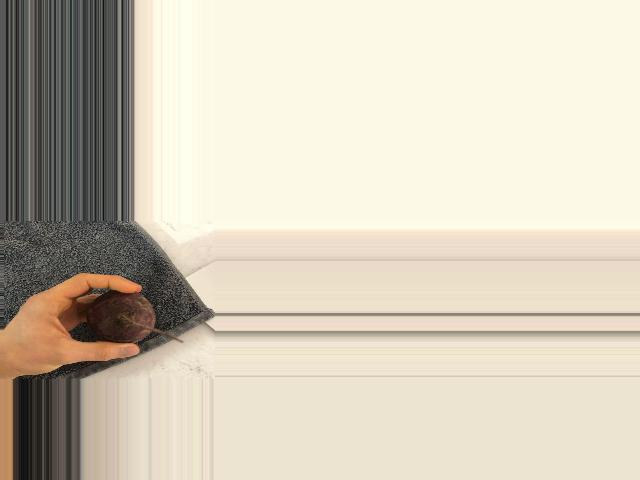beet: (87, 290, 184, 343)
